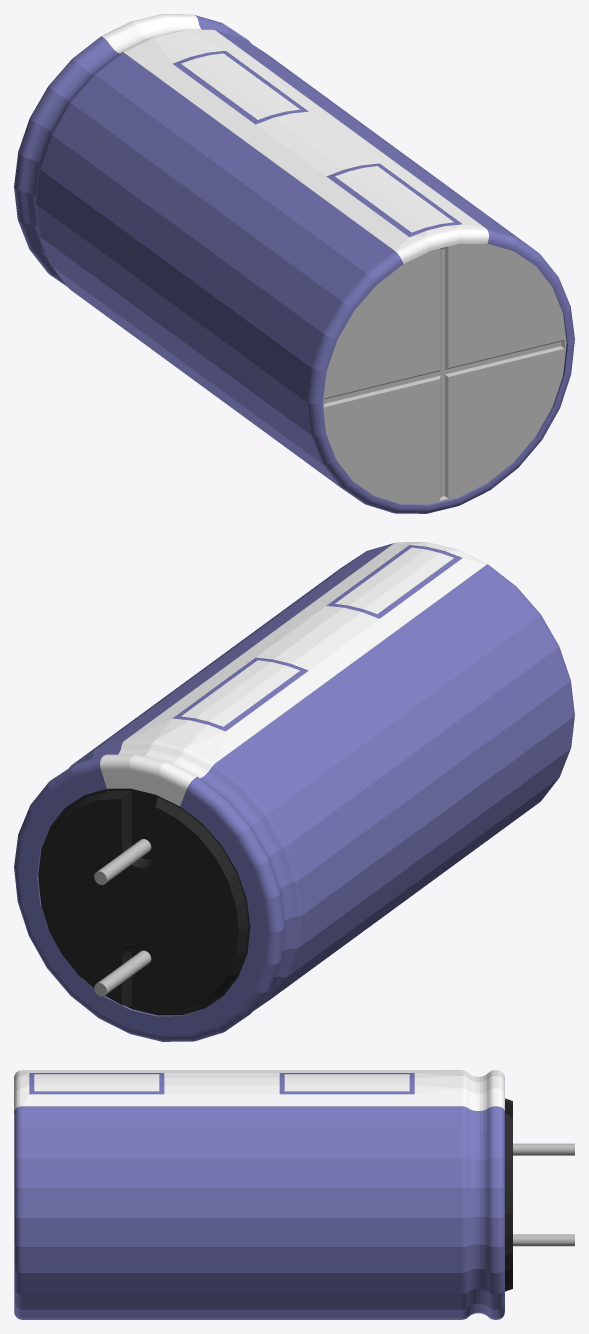
File: cap_el_d12.5_h25_pitch5_w0.6.obj
3 views of the same model, one above another, from view 1: azimuth 30°, elevation 25°; view 2: azimuth 150°, elevation 25°; view 3: azimuth 270°, elevation 25° (orthographic). The views are drawn at different scales.
Visible parts, largest first — view 1: cap_el_d12.5_h25_pitch5_w0.6; view 2: cap_el_d12.5_h25_pitch5_w0.6; view 3: cap_el_d12.5_h25_pitch5_w0.6.
Boxes of the visible parts, x1=… form: cap_el_d12.5_h25_pitch5_w0.6: x1=14, y1=14, x2=574, y2=513; cap_el_d12.5_h25_pitch5_w0.6: x1=14, y1=542, x2=574, y2=1041; cap_el_d12.5_h25_pitch5_w0.6: x1=14, y1=1070, x2=574, y2=1319.
Size of the model in its own units: 0.00494 by 0.00493 by 0.0111.
